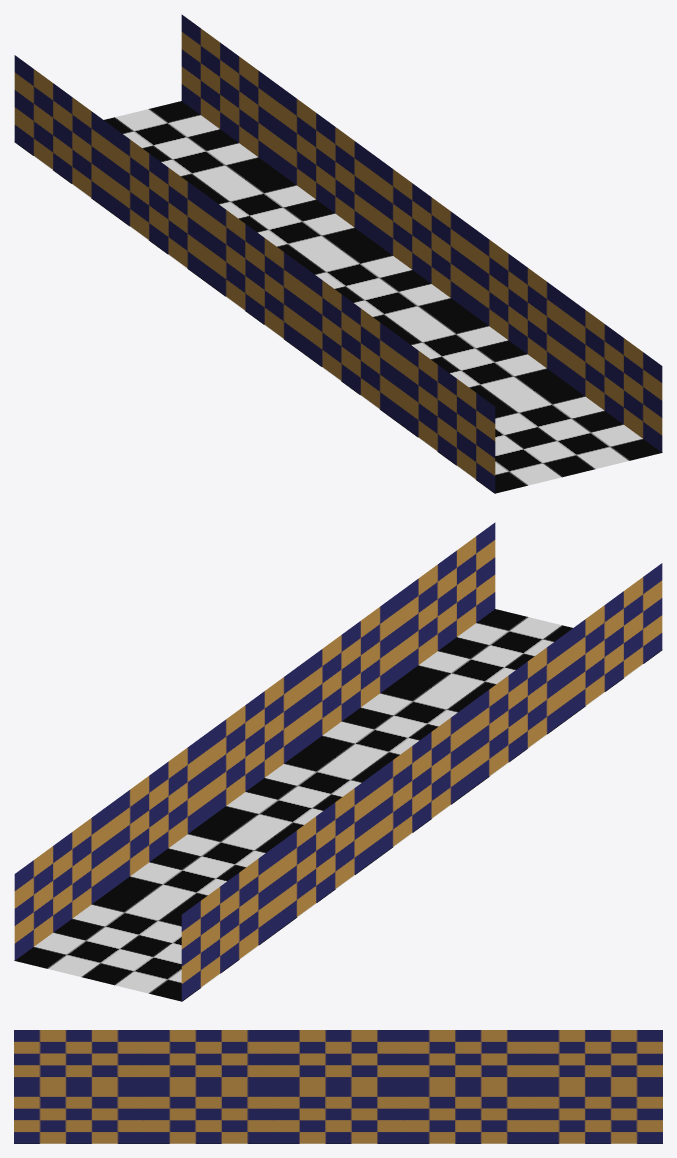
The model's file is Level.glb.
3 renders of one model, top to bottom at view 1: azimuth 30°, elevation 25°; view 2: azimuth 150°, elevation 25°; view 3: azimuth 270°, elevation 25°, orthographic. The views are drawn at different scales.
Visible parts, largest first — view 1: WallR, WallL, Floor; view 2: WallR, WallL, Floor; view 3: WallR, WallL, Floor.
Boxes of the visible parts, x1=… form: WallR: x1=181, y1=14, x2=662, y2=452; WallL: x1=14, y1=55, x2=495, y2=492; Floor: x1=14, y1=101, x2=662, y2=493; WallR: x1=14, y1=522, x2=495, y2=960; WallL: x1=181, y1=563, x2=662, y2=1000; Floor: x1=14, y1=609, x2=662, y2=1001; WallR: x1=14, y1=1085, x2=662, y2=1143; WallL: x1=14, y1=1030, x2=662, y2=1084; Floor: x1=14, y1=1143, x2=662, y2=1143.
Bounding box in the file's own units: 6.05 × 2.99 × 29.94.
3 materials, 3 textured.
